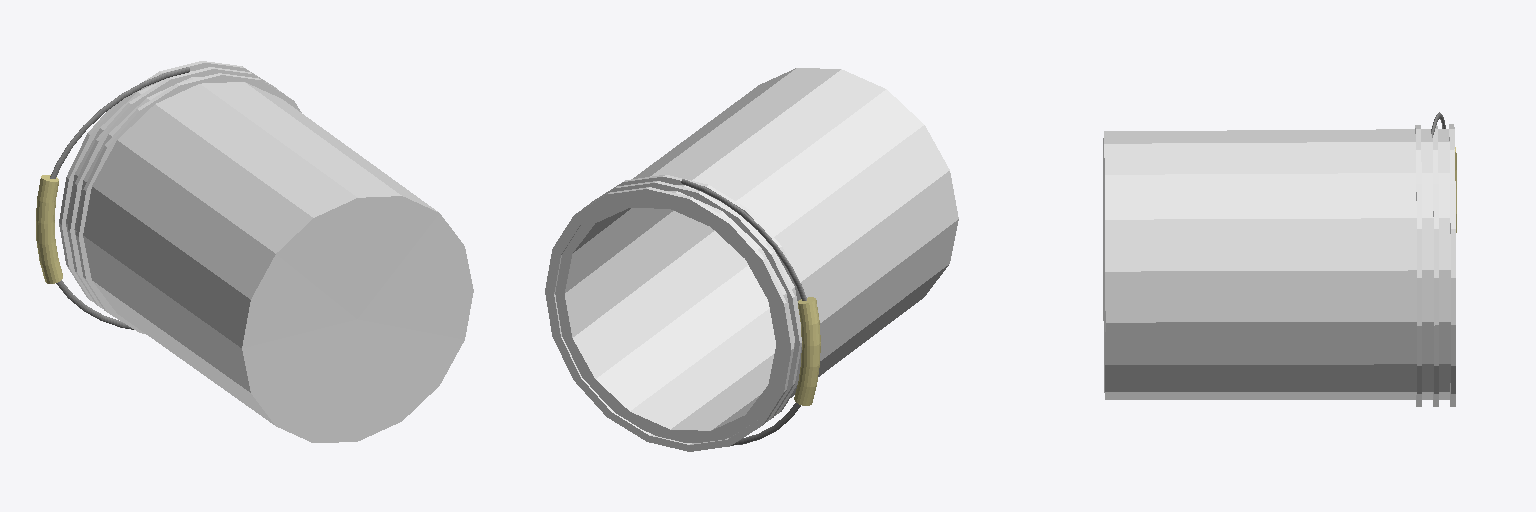
Rendered from BucketInverted.obj.
The picture shows the model from 3 angles: view 1: azimuth 30°, elevation 25°; view 2: azimuth 150°, elevation 25°; view 3: azimuth 270°, elevation 25°; orthographic projection.
Parts seen in each view (by area): view 1: Bucket0, Ring3, Ring2, Handle0, Ring1, HandleMeta; view 2: Bucket0, Ring1, Ring2, Handle0, HandleMeta, Ring3; view 3: Bucket0, Ring1, Ring3, Ring2.
Part boxes in pixels (x1,y1,x2,y2): Bucket0: (66, 71, 473, 442); Ring3: (76, 73, 301, 333); Ring2: (68, 67, 284, 308); Handle0: (36, 175, 62, 283); Ring1: (59, 61, 276, 302); HandleMeta: (50, 67, 189, 329); Bucket0: (555, 68, 958, 442); Ring1: (545, 187, 793, 451); Ring2: (582, 181, 801, 437); Handle0: (794, 297, 820, 405); HandleMeta: (681, 179, 806, 445); Ring3: (590, 175, 801, 415); Bucket0: (1103, 129, 1450, 399); Ring1: (1449, 124, 1455, 406); Ring3: (1415, 125, 1421, 406); Ring2: (1432, 125, 1438, 406).
Size of the model in its own units: 165 by 152 by 187.